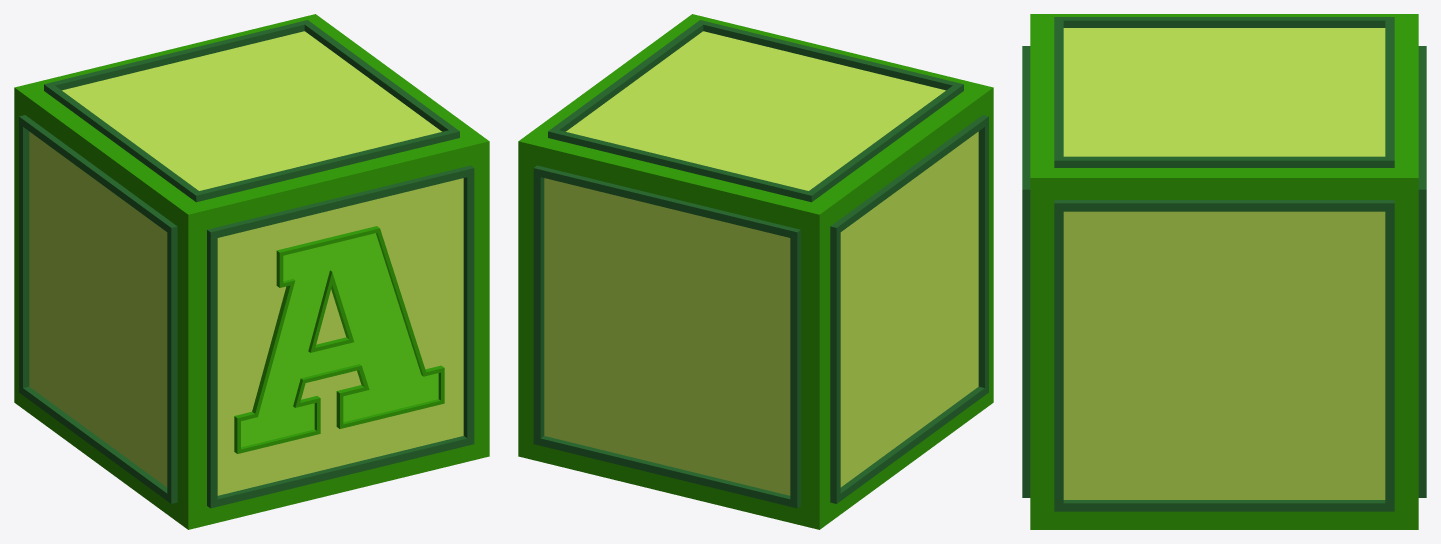
File: SM_Alphabet_blocks_A.fbx
3 views of the same model, side by side, from view 1: azimuth 30°, elevation 25°; view 2: azimuth 150°, elevation 25°; view 3: azimuth 270°, elevation 25° (orthographic). The views are drawn at different scales.
Visible parts, largest first — view 1: SM_Alphabet blocks_A; view 2: SM_Alphabet blocks_A; view 3: SM_Alphabet blocks_A.
Boxes of the visible parts, x1=… form: SM_Alphabet blocks_A: x1=14, y1=14, x2=489, y2=529; SM_Alphabet blocks_A: x1=518, y1=14, x2=993, y2=529; SM_Alphabet blocks_A: x1=1022, y1=14, x2=1426, y2=529.
Size of the model in its own units: 71.98 by 71.98 by 71.98.
